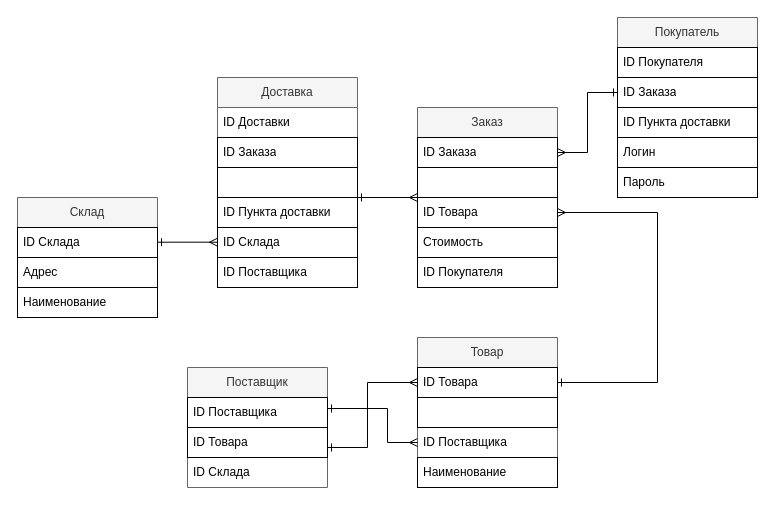
The diagram is 775 pixels wide and 505 high, and some of its shapes have lost their labels. Here are the shapes that lost their labels. From the top down, the centre of each, then its label:
the point at 287,182: Дата доставки
the point at 487,182: Номер заказа
the point at 487,412: Артикул
